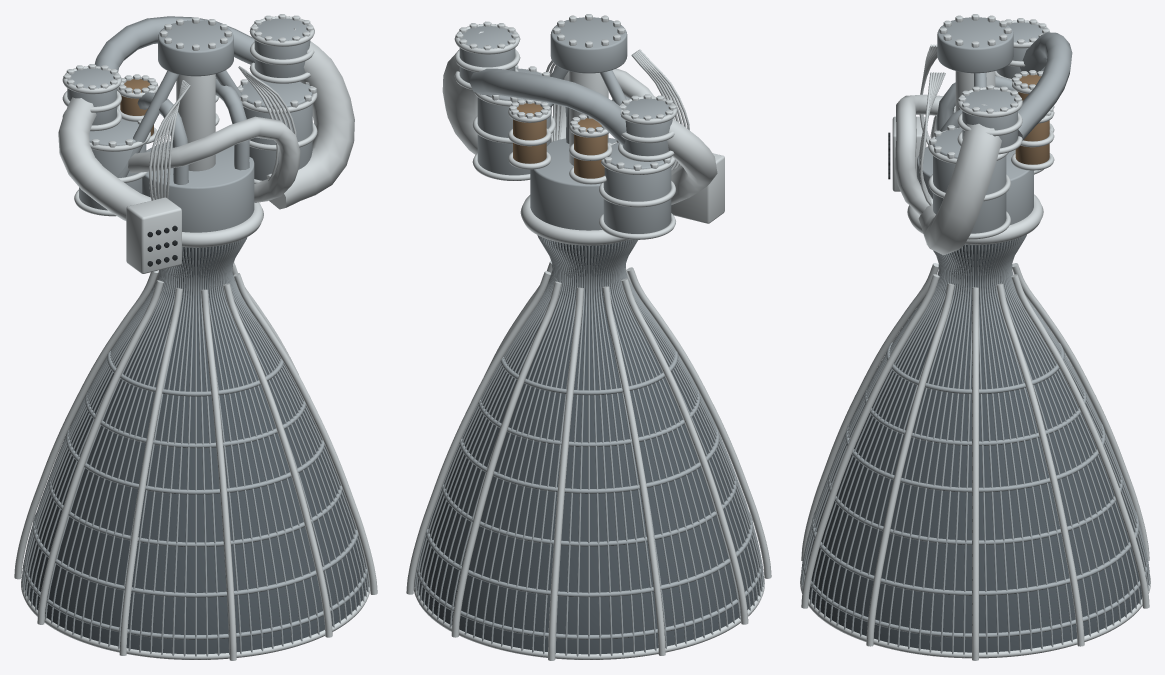
The model's file is RS25_Engine.fbx.
The picture shows the model from 3 angles, left to right: view 1: azimuth 30°, elevation 25°; view 2: azimuth 150°, elevation 25°; view 3: azimuth 270°, elevation 25°; orthographic projection.
Parts seen in each view (by area): view 1: Geometry_BrushedSteel, Geometry_NozzleAlloy, Geometry_PipeSteel, Geometry_HeatTint; view 2: Geometry_BrushedSteel, Geometry_NozzleAlloy, Geometry_PipeSteel, Geometry_HeatTint; view 3: Geometry_BrushedSteel, Geometry_NozzleAlloy, Geometry_PipeSteel, Geometry_HeatTint.
Part boxes in pixels (<box>): Geometry_BrushedSteel: <box>21,16,369,659</box>; Geometry_NozzleAlloy: <box>25,243,366,654</box>; Geometry_PipeSteel: <box>14,14,377,660</box>; Geometry_HeatTint: <box>120,79,153,135</box>; Geometry_BrushedSteel: <box>414,17,764,659</box>; Geometry_NozzleAlloy: <box>417,240,760,654</box>; Geometry_PipeSteel: <box>406,14,771,660</box>; Geometry_HeatTint: <box>513,103,607,178</box>; Geometry_BrushedSteel: <box>800,17,1150,657</box>; Geometry_NozzleAlloy: <box>805,240,1145,652</box>; Geometry_PipeSteel: <box>800,14,1150,660</box>; Geometry_HeatTint: <box>1015,74,1049,164</box>.
Size of the model in its own units: 2.5 by 4.19 by 2.39.
